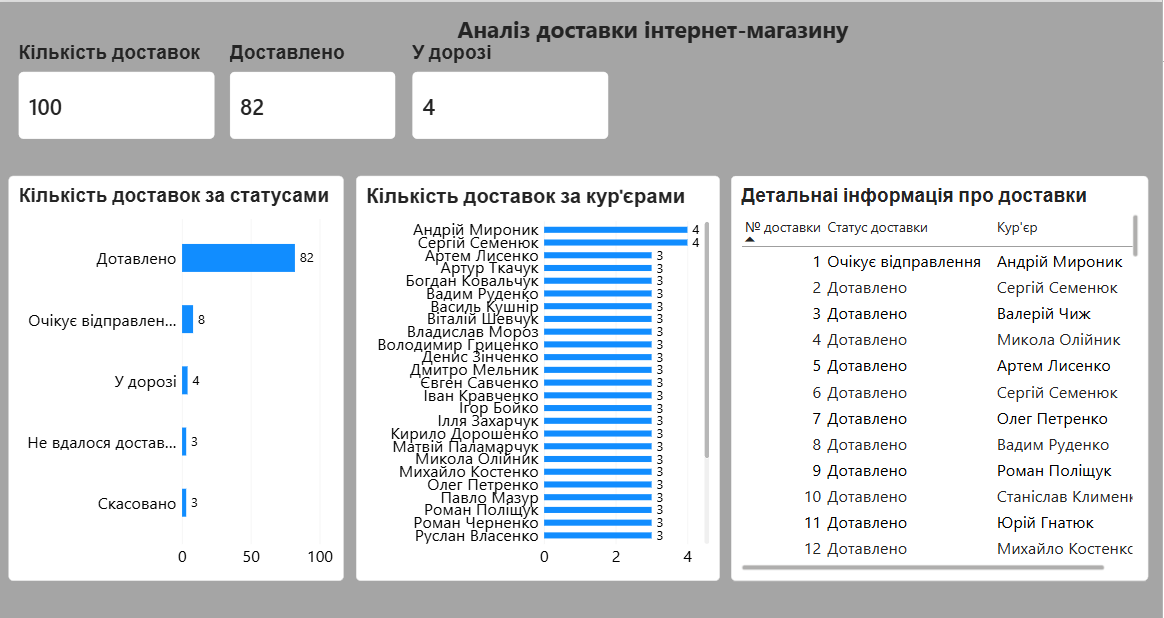

This screenshot's page, from the dashboard's own definition file:
{"tool":"powerbi","page":{"name":"Аналіз додоставки","canvas":[1920,1080],"ordinal":1},"visuals":[{"type":"cardVisual","title":"Кількість доставок","fields":{"Data":["CountNonNull(delliveries.dellivery_id)"]},"box":[37,65.9,323.2,160.5],"z":0},{"type":"cardVisual","title":"Доставлено","fields":{"Data":["CountNonNull(delliveries.dellivery_status)"]},"box":[384.9,65.9,273.8,160.5],"z":1000},{"type":"cardVisual","title":"У дорозі","fields":{"Data":["CountNonNull(delliveries.dellivery_status)"]},"box":[685.4,65.9,323.2,160.5],"z":2000},{"type":"clusteredBarChart","title":"Кількість доставок за статусами","fields":{"Category":["delliveries.dellivery_status"],"Y":["CountNonNull(delliveries.dellivery_id)"]},"box":[20.6,286.1,551.6,666.9],"z":3000},{"type":"clusteredBarChart","title":"Кількість доставок за кур''єрами","fields":{"Category":["couriers.Courier Name"],"Y":["CountNonNull(delliveries.dellivery_id)"]},"box":[592.8,286.1,599,666.9],"z":4000},{"type":"tableEx","title":"Детальнаі інформація про доставки","fields":{"Values":["delliveries.dellivery_id","delliveries.dellivery_status","couriers.Courier Name"]},"box":[1210.3,286.1,687.5,666.9],"z":5000},{"type":"textbox","box":[759.5,18.5,901.5,207.9],"z":6000}]}

Visuals, with their boxes on the page's 1920x1080 design canvas (x1, y1, x2, y2). These are canvas units, not pixel positions in the 1164x618 screenshot, which may show the page scaled, cropped or inside an application window:
"Кількість доставок" cardVisual: {"left": 37, "top": 66, "right": 360, "bottom": 226}
"Доставлено" cardVisual: {"left": 385, "top": 66, "right": 659, "bottom": 226}
"У дорозі" cardVisual: {"left": 685, "top": 66, "right": 1009, "bottom": 226}
"Кількість доставок за статусами" clusteredBarChart: {"left": 21, "top": 286, "right": 572, "bottom": 953}
"Кількість доставок за кур''єрами" clusteredBarChart: {"left": 593, "top": 286, "right": 1192, "bottom": 953}
"Детальнаі інформація про доставки" tableEx: {"left": 1210, "top": 286, "right": 1898, "bottom": 953}
textbox: {"left": 760, "top": 18, "right": 1661, "bottom": 226}
